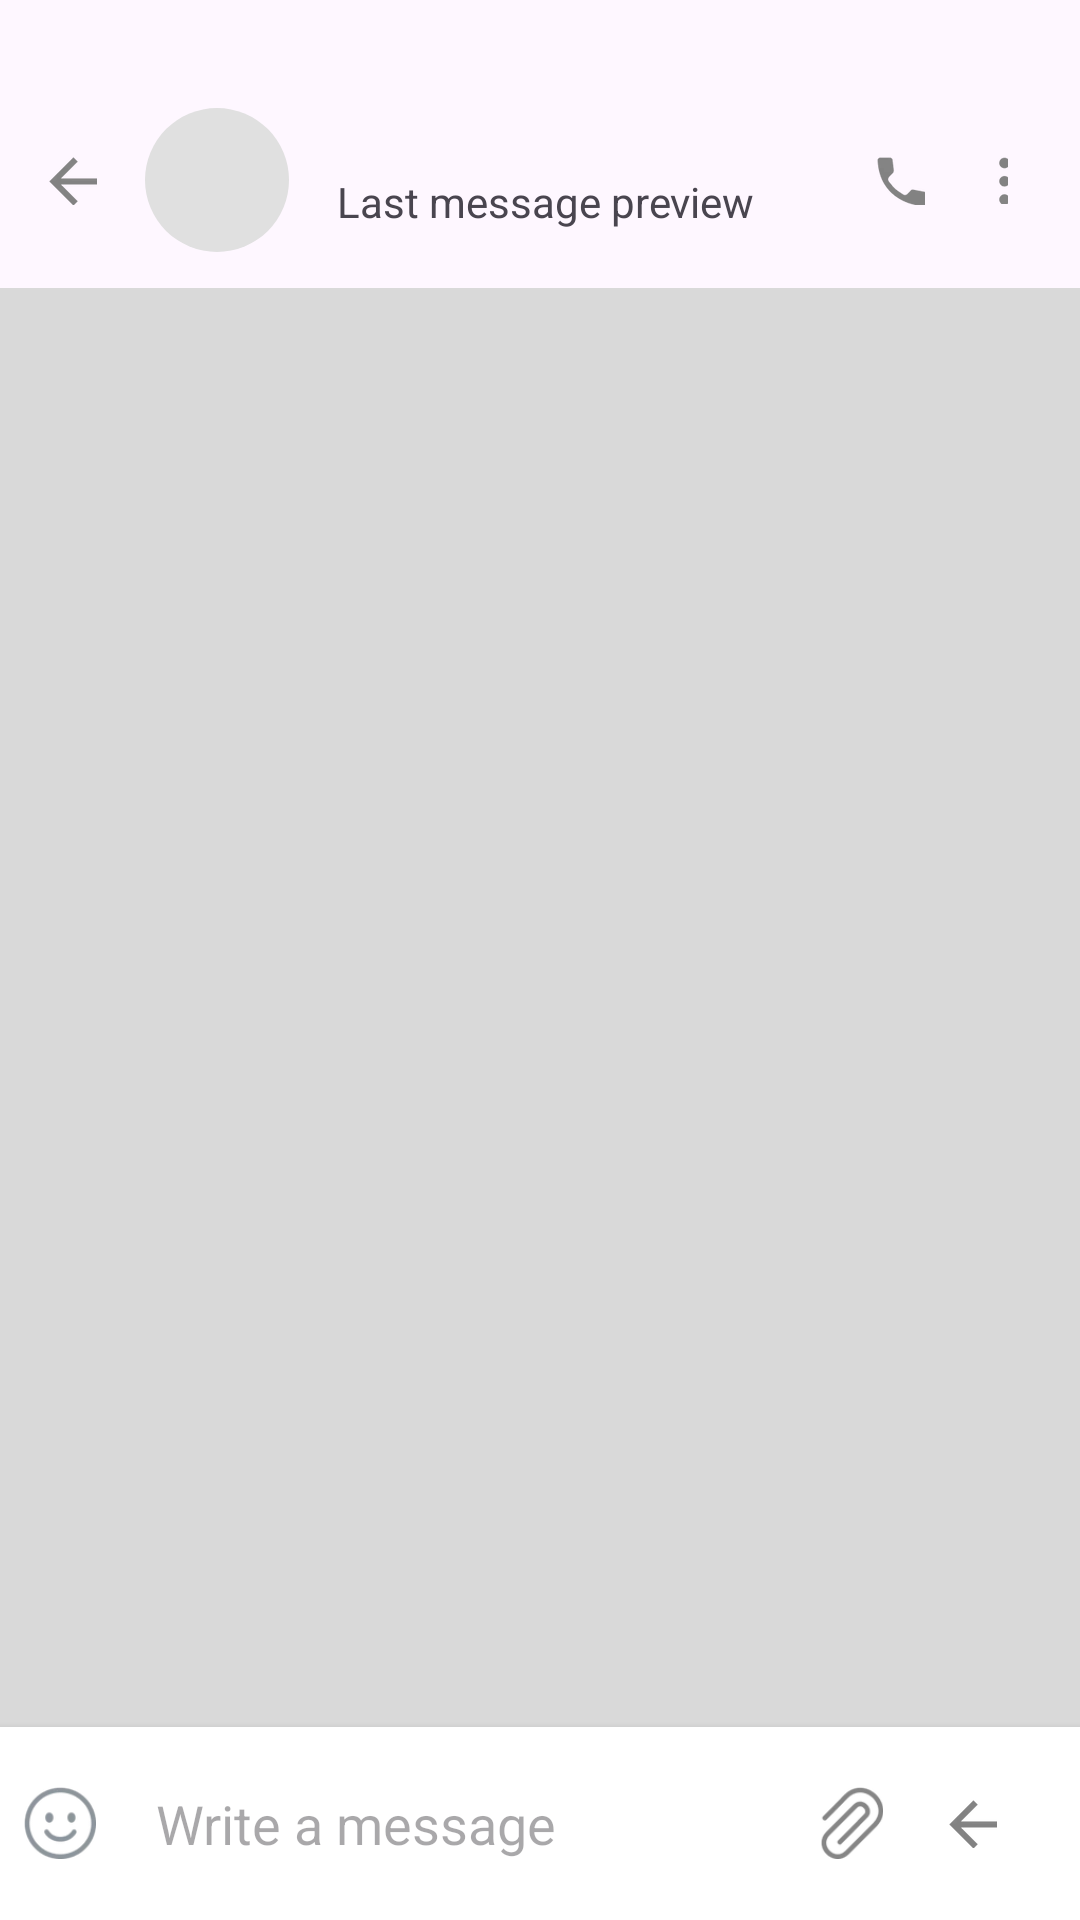

Screen size 1080px x 1920px. Icon name, then its box in pixels as [x1, y1, x2, y2]:
attach: [821, 1787, 883, 1859]
back: [49, 157, 97, 205], [949, 1800, 997, 1848]
emojis: [24, 1787, 96, 1859]
phone: [877, 157, 925, 205]
